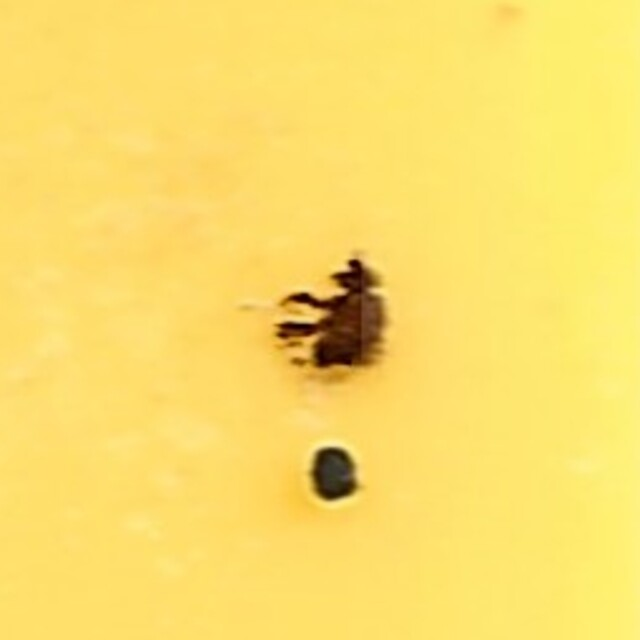Coleoptera: (251, 257, 389, 383)
